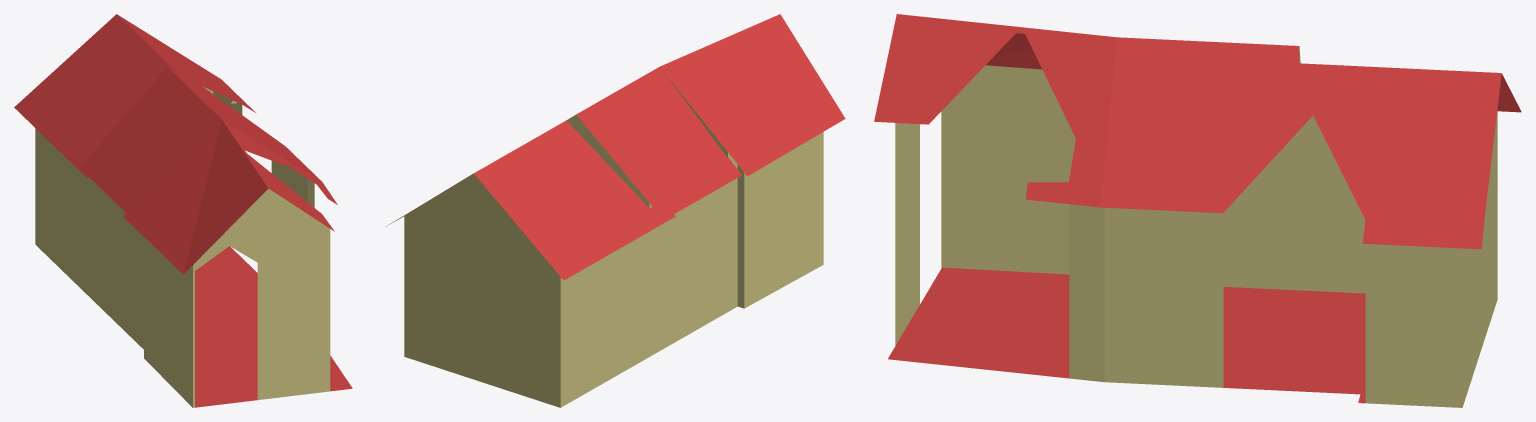
The picture shows the model from 3 angles, left to right: view 1: azimuth 30°, elevation 25°; view 2: azimuth 150°, elevation 25°; view 3: azimuth 270°, elevation 25°; orthographic projection. The views are drawn at different scales.
Size of the model in its own units: 17.57 by 29.94 by 14.9.
